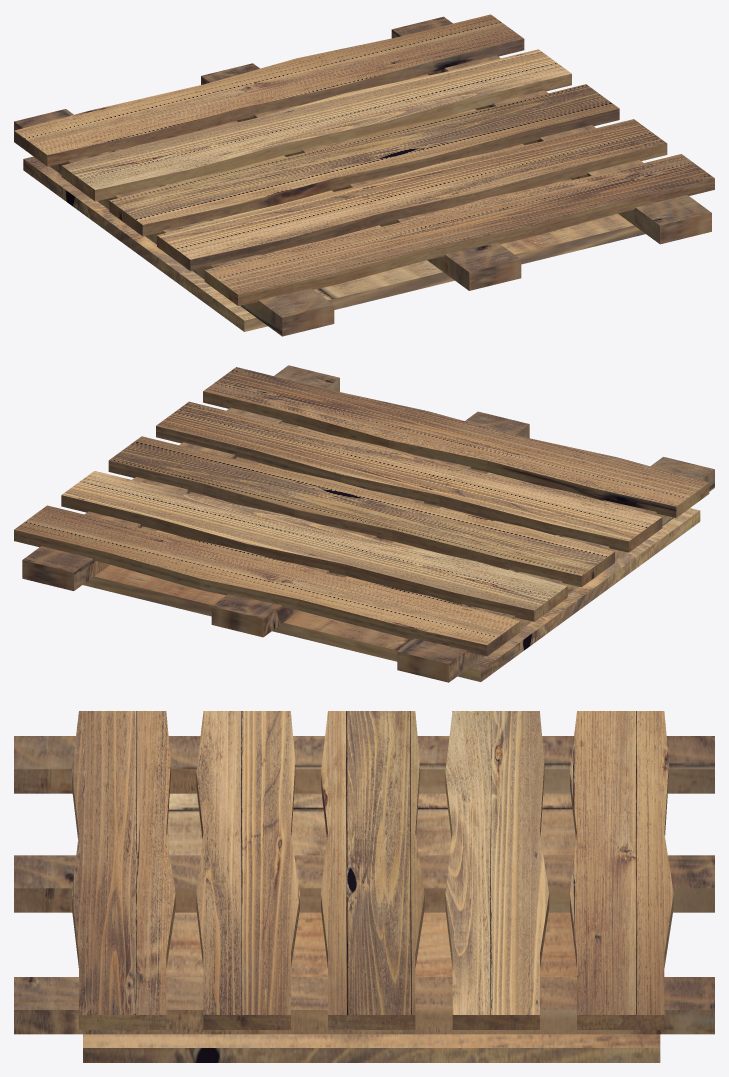
File: plank_stacked2.fbx
The picture shows the model from 3 angles, top to bottom: view 1: azimuth 30°, elevation 25°; view 2: azimuth 150°, elevation 25°; view 3: azimuth 270°, elevation 25°; orthographic projection. The views are drawn at different scales.
Visible parts, largest first — view 1: Plane.028; view 2: Plane.028; view 3: Plane.028.
Part boxes in pixels (box(x1,y1,x2,y2)): Plane.028: box(14, 14, 714, 336); Plane.028: box(14, 365, 714, 682); Plane.028: box(14, 711, 714, 1062).
Bounding box in the file's own units: 463 × 37.49 × 451.
